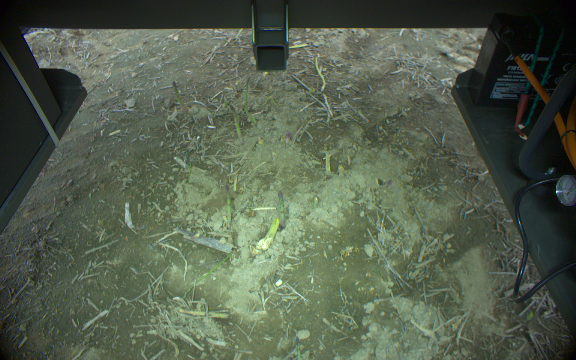aspa: (169, 79, 195, 124), (225, 103, 245, 144), (222, 183, 235, 229), (312, 54, 327, 91), (276, 189, 286, 228)
